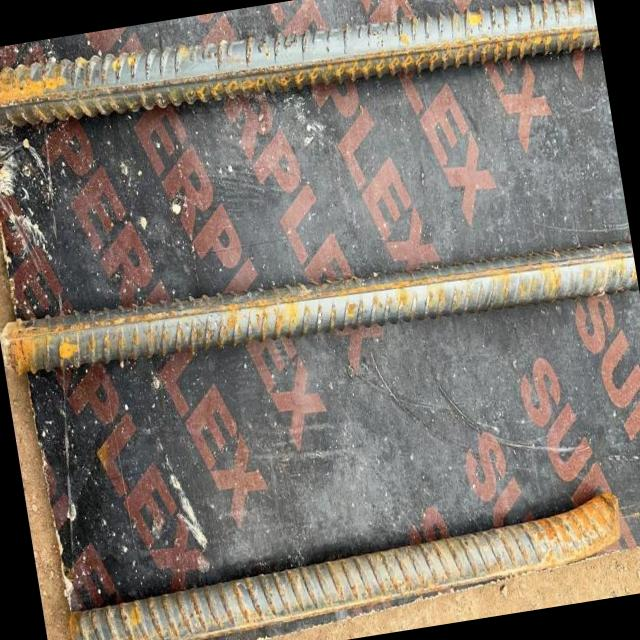ribbed bar: (0, 217, 639, 391), (0, 0, 601, 147), (59, 488, 632, 640)
